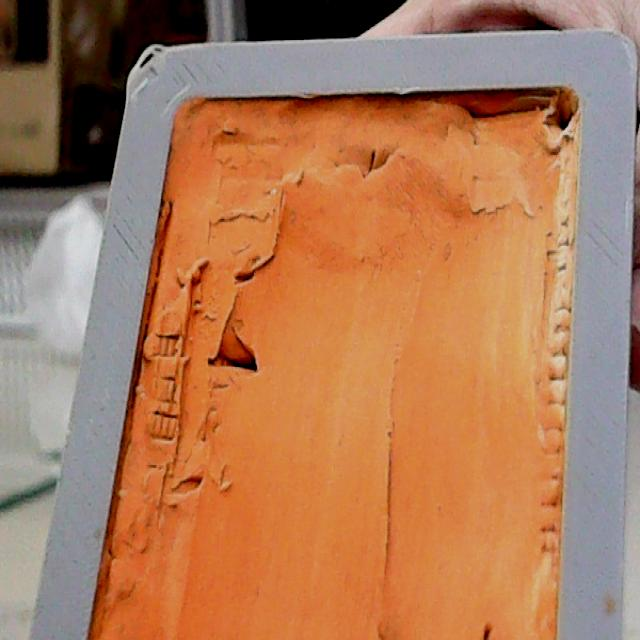block: (26, 42, 636, 640)
